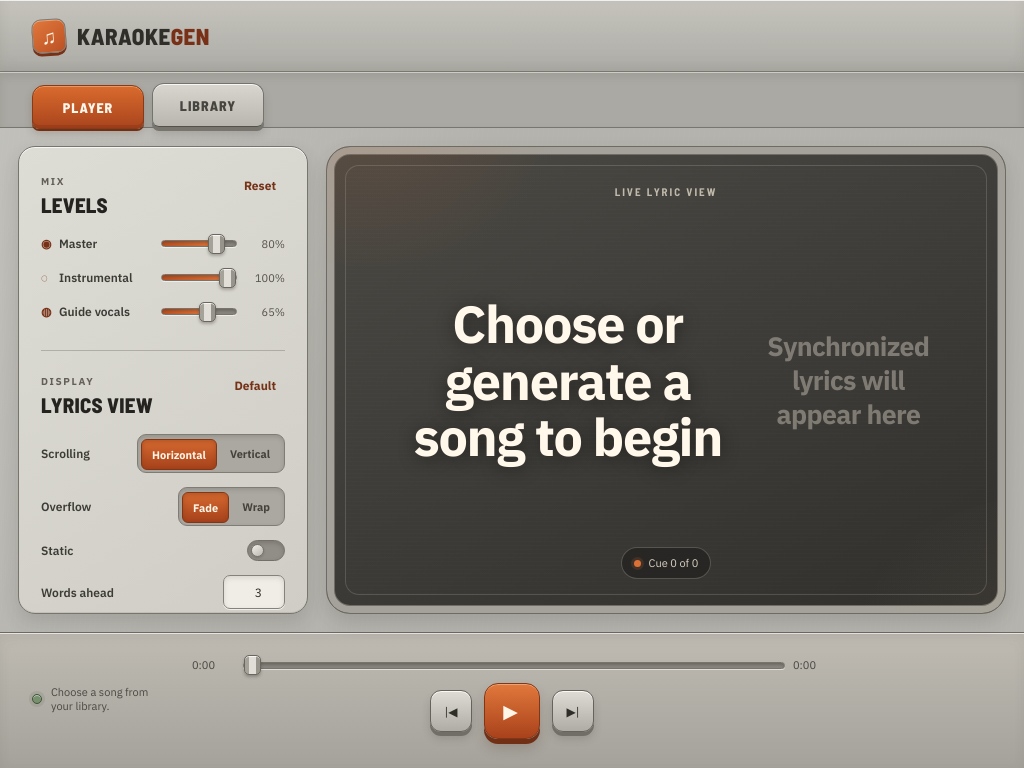
Test case: shows generation in Library and playback controls in Player
The image size is (1024, 768).
Expected: the field with placeholder "Song title" is not shown
Expected: the button named "Play" is shown, left=484, top=683, right=540, bottom=739
What coordinates should you click on to do the following:
click the tab "Library"
I would click on:
 (208, 105)
Its box is left=152, top=83, right=264, bottom=127.
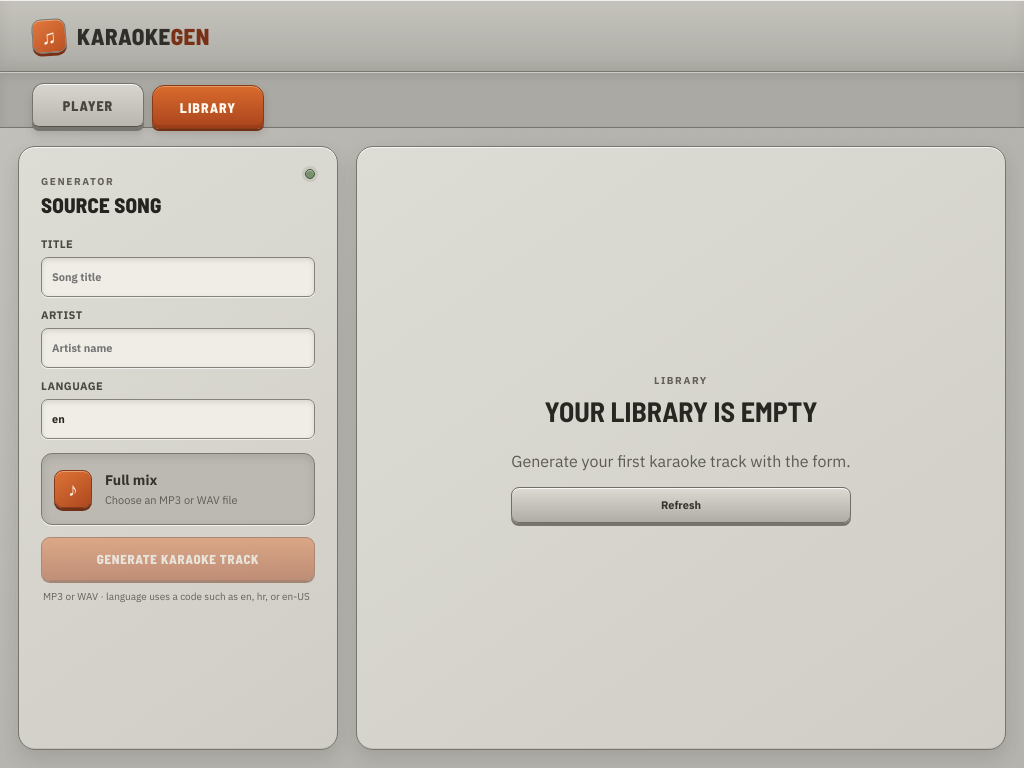
Now the field with placeholder "Song title" is shown, box left=41, top=257, right=315, bottom=297
Now the heading "Your library is empty" is shown, box left=544, top=394, right=818, bottom=428
